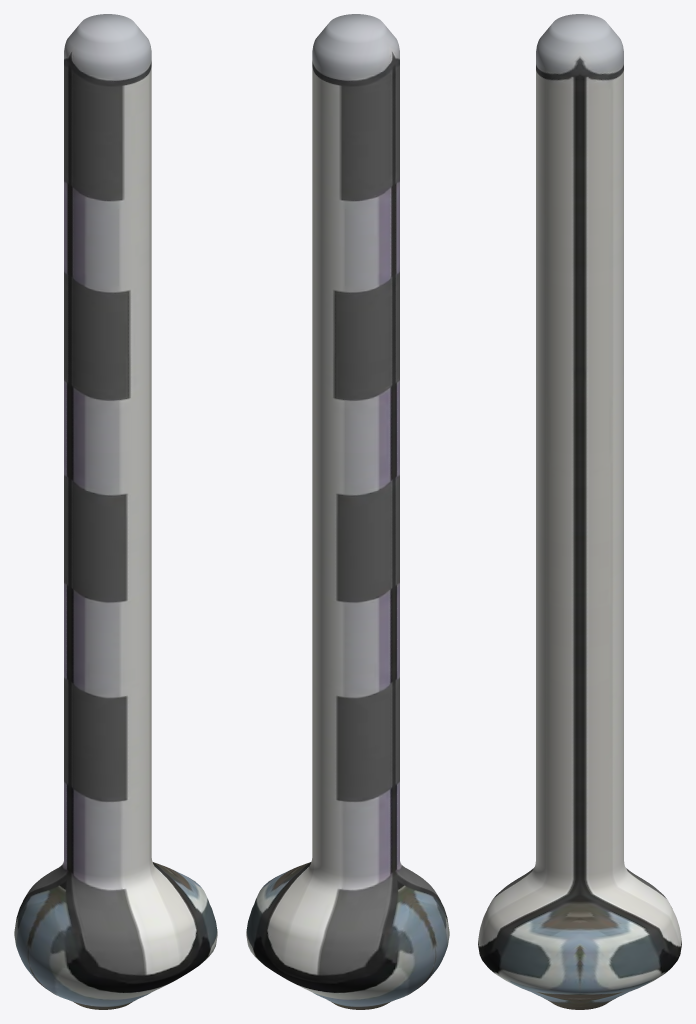
File: wall_pipe.glb
3 views of the same model, side by side, from view 1: azimuth 30°, elevation 25°; view 2: azimuth 150°, elevation 25°; view 3: azimuth 270°, elevation 25° (orthographic).
Parts seen in each view (by area): view 1: wall_pipe; view 2: wall_pipe; view 3: wall_pipe.
Boxes of the visible parts, <box> form: wall_pipe: <box>14,14,217,1009</box>; wall_pipe: <box>246,14,449,1009</box>; wall_pipe: <box>478,14,681,1009</box>.
Size of the model in its own units: 0.9898 by 5.23 by 0.9898.
Materials: 1 (1 with a texture image).
